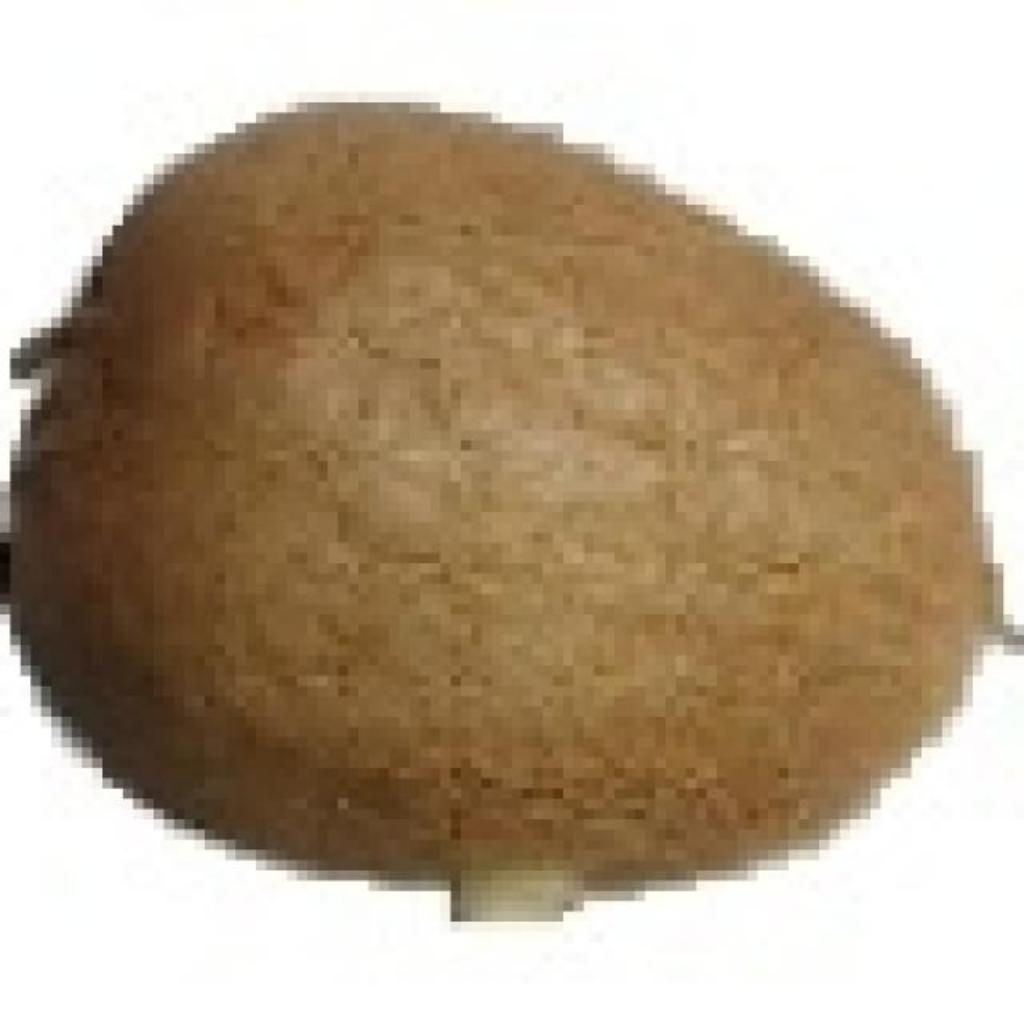kiwi: (31, 92, 1004, 891)
